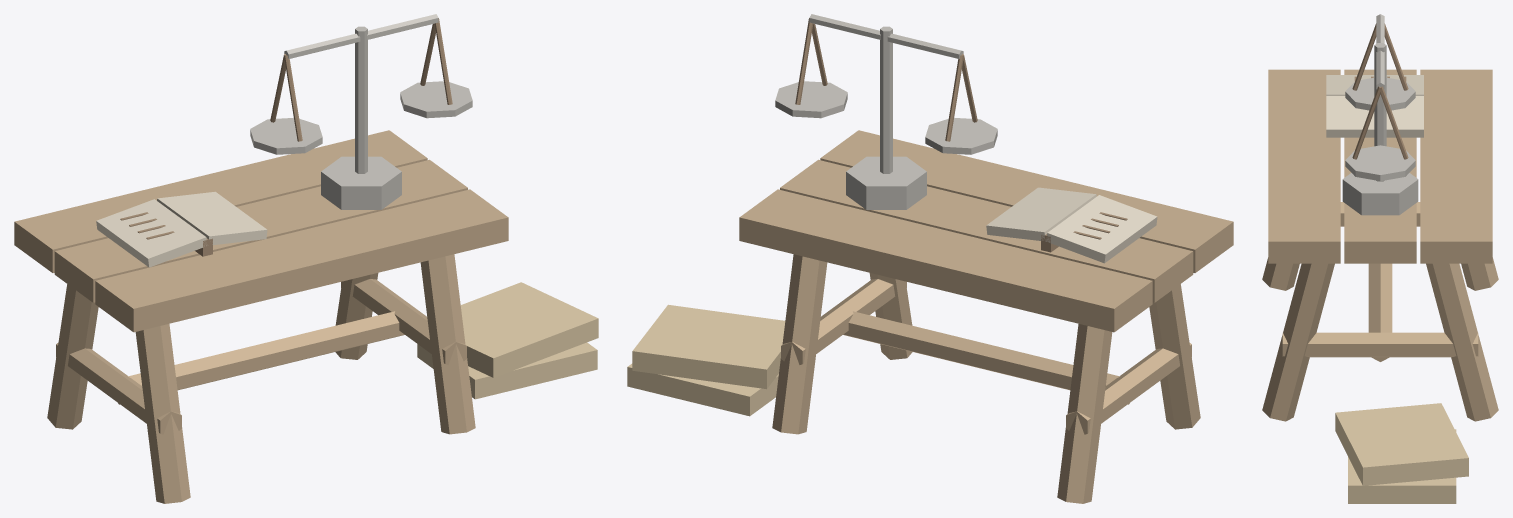
The model's file is stall-factor.glb.
3 views of the same model, side by side, from view 1: azimuth 30°, elevation 25°; view 2: azimuth 150°, elevation 25°; view 3: azimuth 270°, elevation 25° (orthographic). The views are drawn at different scales.
Parts seen in each view (by area): view 1: stall-factor_wood, stall-factor_sack, stall-factor_metal, stall-factor_paper, stall-factor_dark; view 2: stall-factor_wood, stall-factor_sack, stall-factor_metal, stall-factor_paper, stall-factor_dark; view 3: stall-factor_wood, stall-factor_sack, stall-factor_metal, stall-factor_paper, stall-factor_dark.
Boxes of the visible parts, x1,y1,x2,y2 form: stall-factor_wood: (14,130,508,503); stall-factor_sack: (417,282,598,399); stall-factor_metal: (250,14,472,209); stall-factor_paper: (96,191,267,267); stall-factor_dark: (120,18,452,256); stall-factor_wood: (739,130,1233,503); stall-factor_sack: (627,304,785,416); stall-factor_metal: (775,14,997,209); stall-factor_paper: (986,187,1157,263); stall-factor_dark: (795,18,1127,252); stall-factor_wood: (1262,69,1498,421); stall-factor_sack: (1335,403,1468,503); stall-factor_metal: (1342,14,1418,215); stall-factor_paper: (1326,75,1423,137); stall-factor_dark: (1352,23,1408,159).
Bounding box in the file's own units: 0.6871 × 0.4858 × 0.2909.
